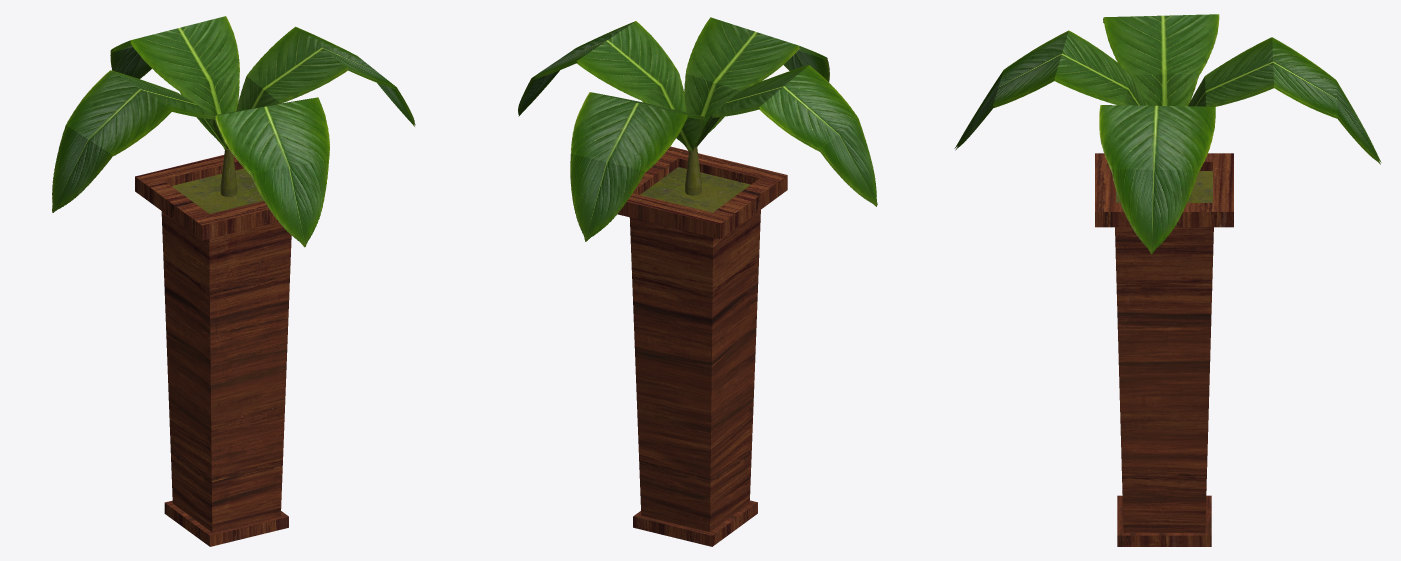
Rendered from Pot 1.fbx.
3 renders of one model, left to right at view 1: azimuth 30°, elevation 25°; view 2: azimuth 150°, elevation 25°; view 3: azimuth 270°, elevation 25°, orthographic. The views are drawn at different scales.
Visible parts, largest first — view 1: Pot 1.001; view 2: Pot 1.001; view 3: Pot 1.001.
Part boxes in pixels (x1=…): Pot 1.001: x1=52, y1=16, x2=415, y2=546; Pot 1.001: x1=518, y1=17, x2=877, y2=546; Pot 1.001: x1=954, y1=14, x2=1381, y2=546.
Size of the model in its own units: 414 by 481 by 415.
